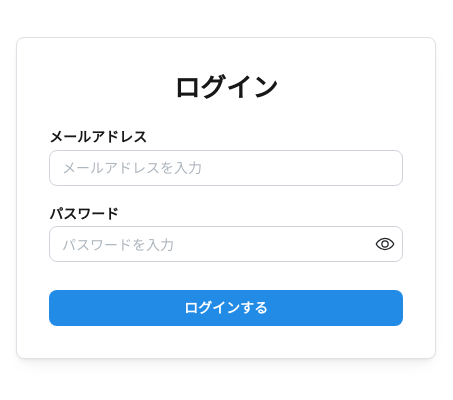
it: ログイン画面 › HTTP 401 の場合にエラーを表示する
Type "test@example.com" into the field labelled "メールアドレス" at (226, 168), box 49,150 -> 403,186
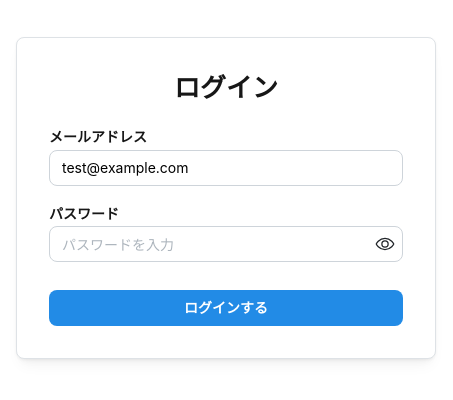
Type "test-password" into the password field labelled "パスワード" at (226, 244), box 50,227 -> 402,261
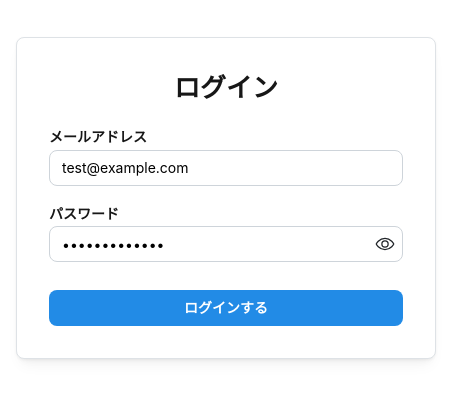
Click the button "ログインする" at (226, 308), box 49,290 -> 403,326
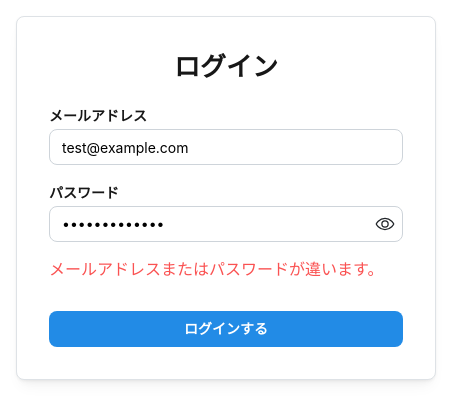
Now the message reads "メールアドレスまたはパスワードが違います。", box 49,261 -> 383,278
